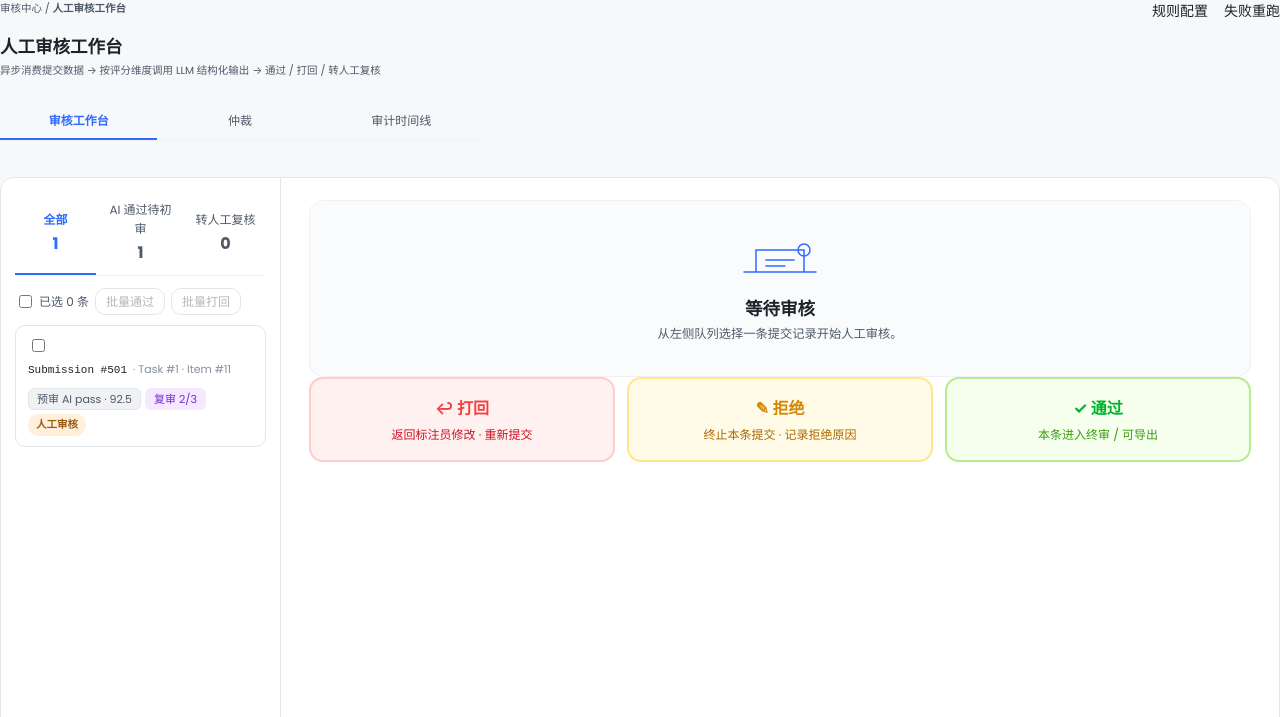
Test: ReviewerQueue schema runtime flow › opens submission detail and renders historical template as read-only
Click the text "Submission #501": x=78, y=370 [28, 364, 127, 376]
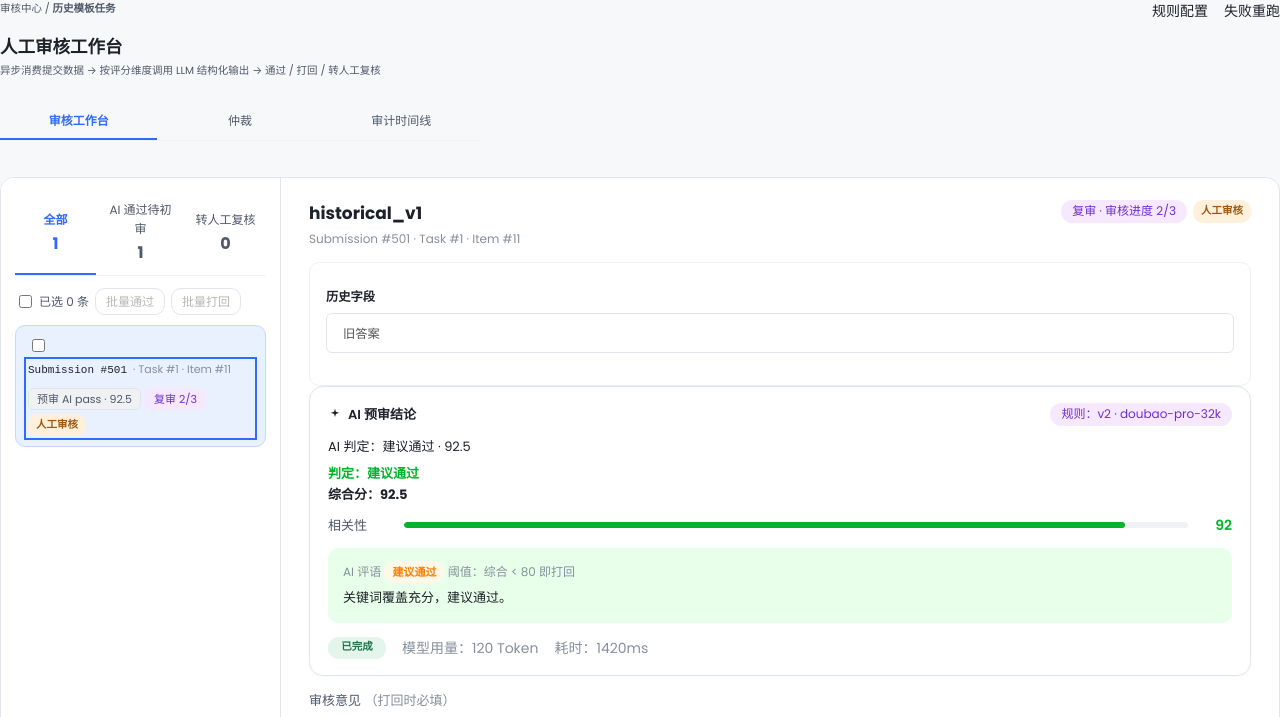
Check: the field named "历史字段" holds "旧答案", box [326, 313, 1234, 353]
Check: the field named "历史字段" is disabled, box [326, 313, 1234, 353]
Check: the text "AI 判定：建议通过 · 92.5" is shown, box [328, 437, 471, 456]
Click the tab "审计时间线": x=401, y=122 [323, 103, 480, 140]
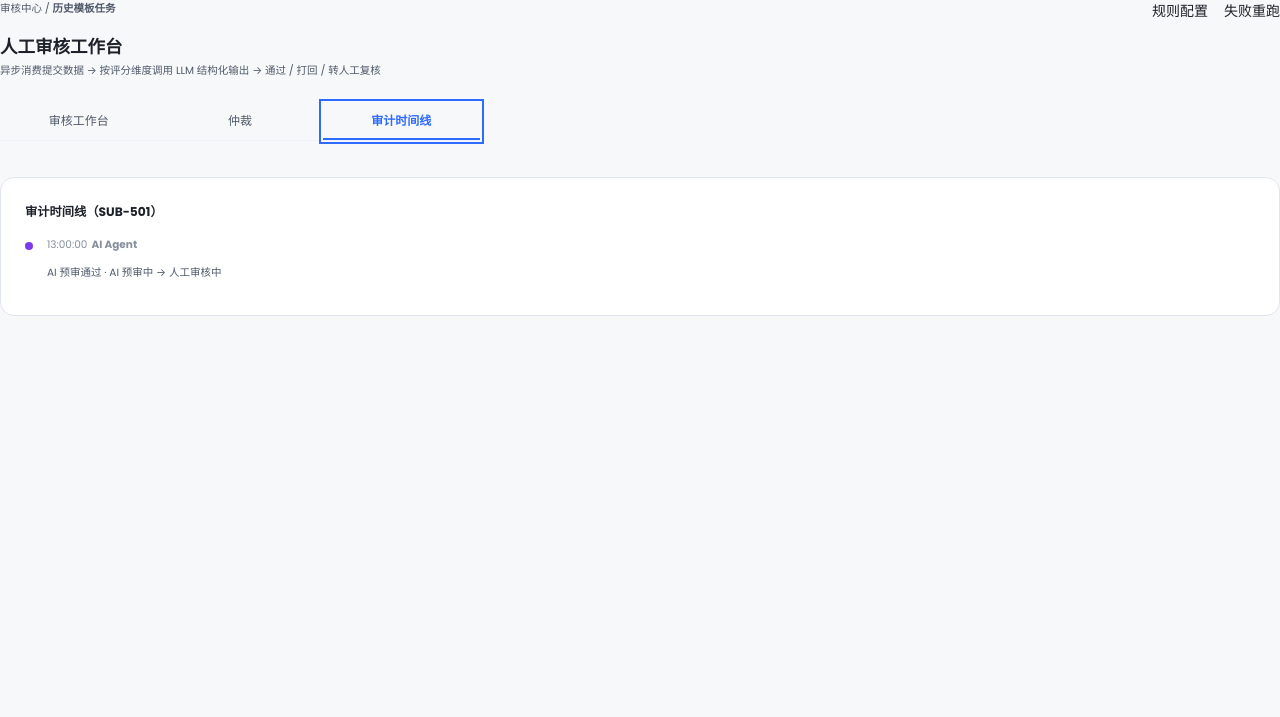
Check: the text "AI Agent" is shown, box [91, 237, 137, 253]
Check: the heading "审计时间线（SUB-501）" is shown, box [25, 203, 163, 220]
Check: the text "AI 预审通过 · AI 预审中 → 人工审核中" is shown, box [47, 264, 221, 280]
